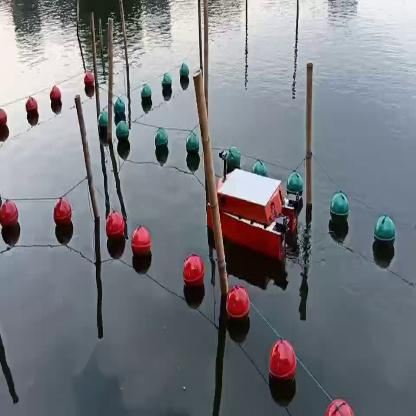green_buoy: (328, 189, 348, 231), (376, 213, 394, 253), (184, 132, 200, 161), (288, 168, 304, 190), (154, 132, 168, 156), (160, 72, 172, 96), (229, 145, 242, 166), (98, 111, 108, 135), (140, 86, 152, 104), (115, 125, 127, 143), (250, 158, 263, 174), (115, 96, 125, 114), (180, 64, 190, 81)
red_buoy: (271, 336, 296, 386), (226, 286, 251, 320), (0, 199, 20, 233), (184, 257, 204, 288), (52, 202, 73, 231), (106, 212, 126, 240), (129, 232, 150, 256), (327, 398, 356, 410), (83, 69, 94, 93), (51, 84, 62, 108), (26, 99, 38, 120), (0, 111, 7, 132)
